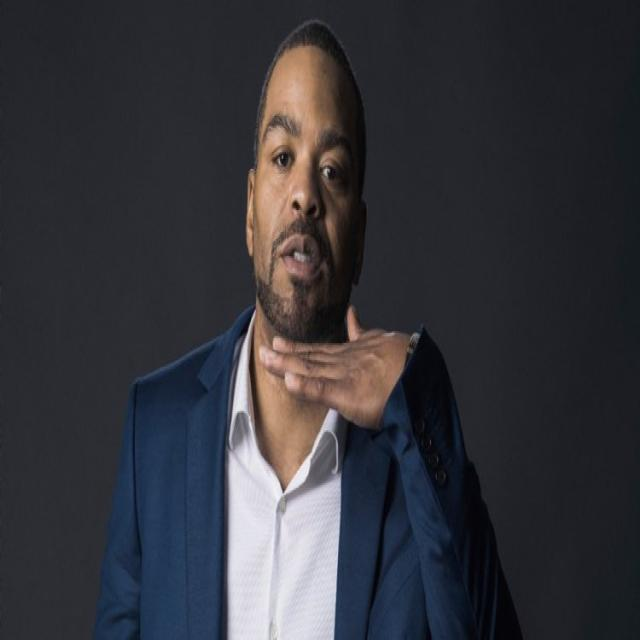human: (94, 17, 522, 640)
